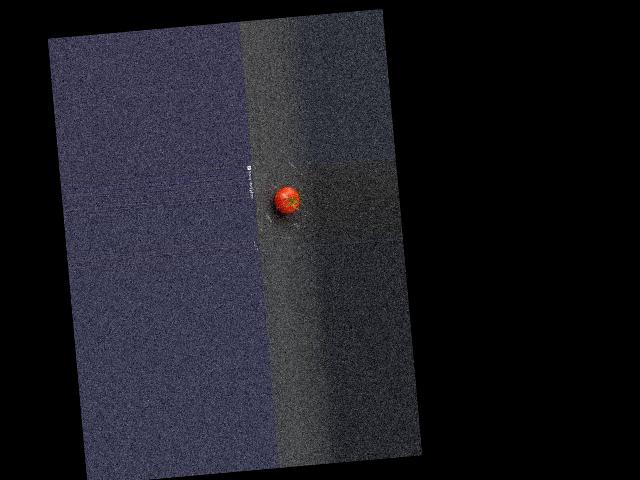tomato: (274, 186, 300, 215)
